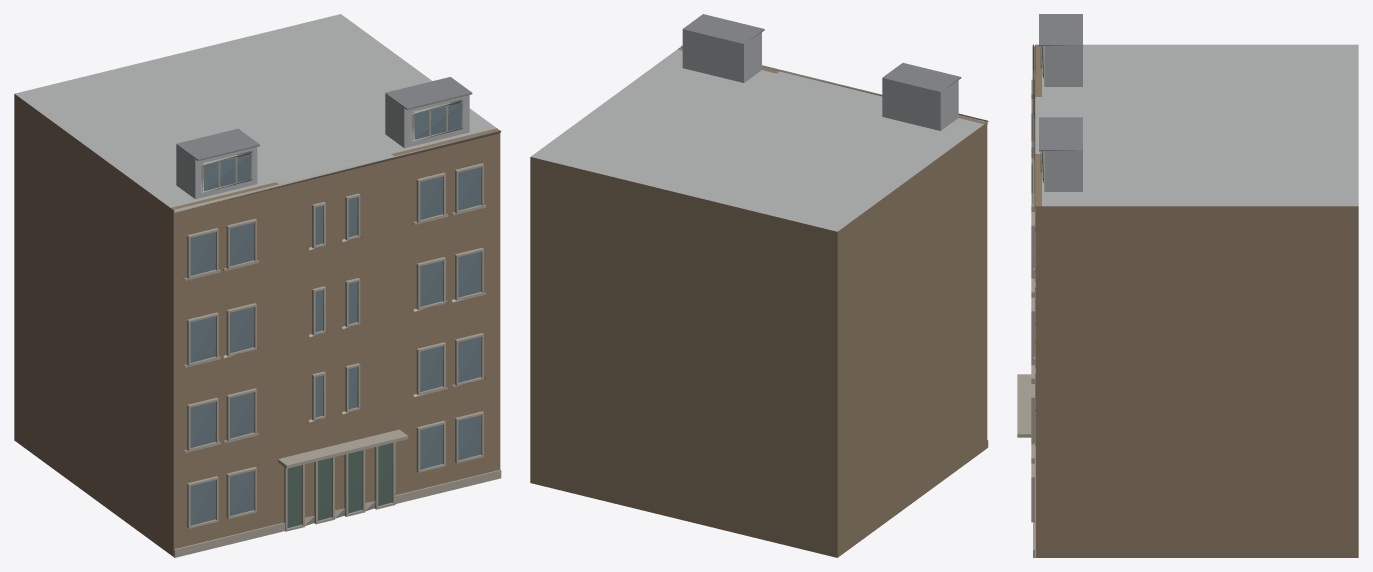
The model's file is chunk-face-zwijgerlaan-225-279-r2.lod2.glb.
3 views of the same model, side by side, from view 1: azimuth 30°, elevation 25°; view 2: azimuth 150°, elevation 25°; view 3: azimuth 270°, elevation 25° (orthographic). The views are drawn at different scales.
Visible parts, largest first — view 1: lod2; view 2: lod2; view 3: lod2.
Part boxes in pixels (box(x1,y1,x2,y2)): lod2: box(14, 14, 501, 557); lod2: box(530, 14, 988, 557); lod2: box(1017, 14, 1358, 557).
Bounding box in the file's own units: 12.81 × 14.61 × 11.42.
